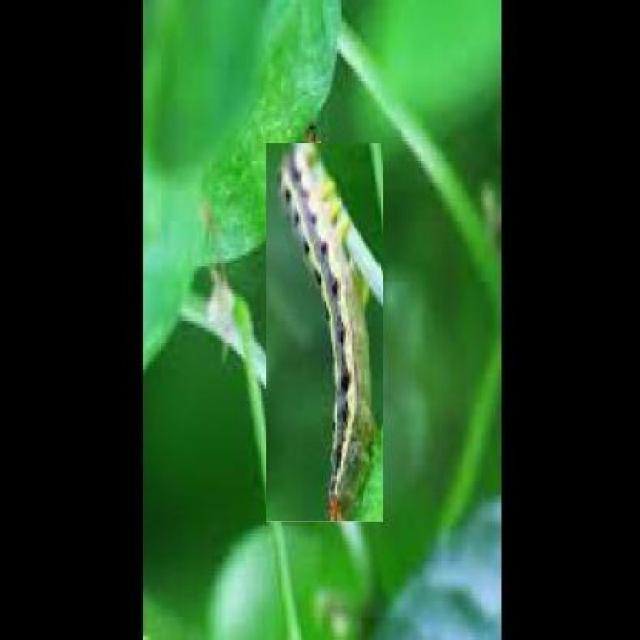Plaga: (266, 143, 386, 523)
